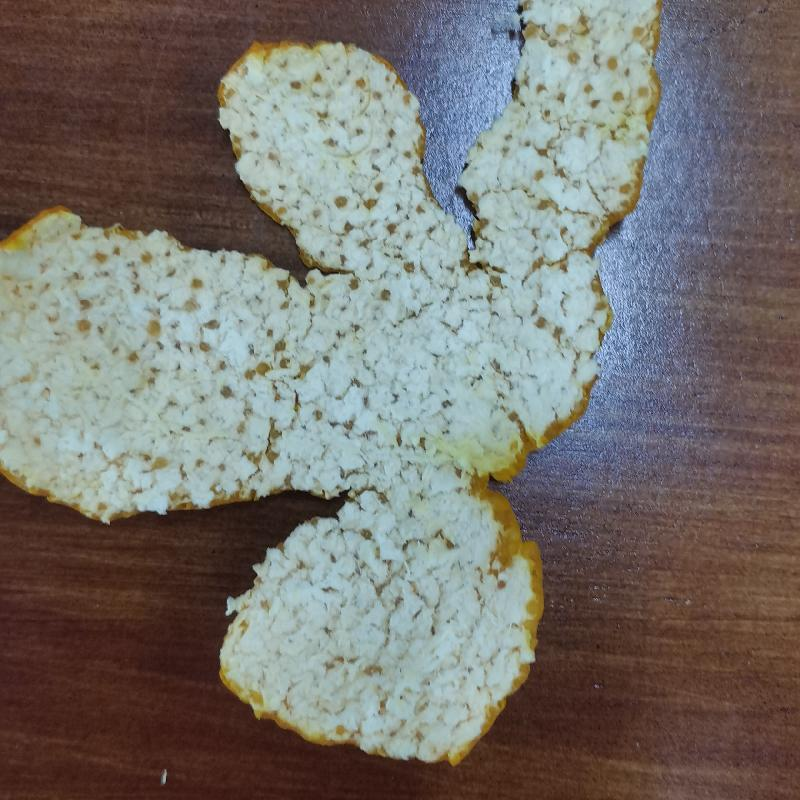orange: (2, 0, 660, 763)
